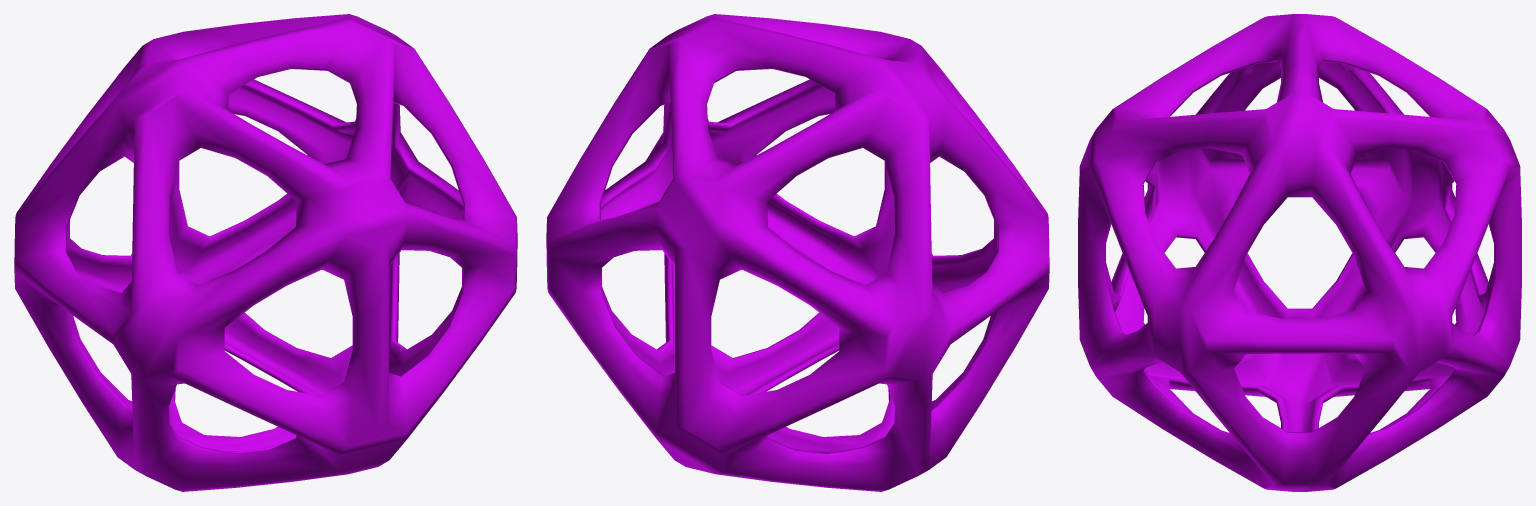
The model's file is dode2.fbx.
The picture shows the model from 3 angles, left to right: view 1: azimuth 30°, elevation 25°; view 2: azimuth 150°, elevation 25°; view 3: azimuth 270°, elevation 25°; orthographic projection. The views are drawn at different scales.
Visible parts, largest first — view 1: great_dodecahedron_organic_shape_with_holes_2:Mesh_GreatDode; view 2: great_dodecahedron_organic_shape_with_holes_2:Mesh_GreatDode; view 3: great_dodecahedron_organic_shape_with_holes_2:Mesh_GreatDode.
Part boxes in pixels (x1=…): great_dodecahedron_organic_shape_with_holes_2:Mesh_GreatDode: x1=14, y1=14, x2=517, y2=491; great_dodecahedron_organic_shape_with_holes_2:Mesh_GreatDode: x1=546, y1=14, x2=1049, y2=491; great_dodecahedron_organic_shape_with_holes_2:Mesh_GreatDode: x1=1078, y1=14, x2=1521, y2=491.
Bounding box in the file's own units: 31.2 × 31.2 × 31.2.
